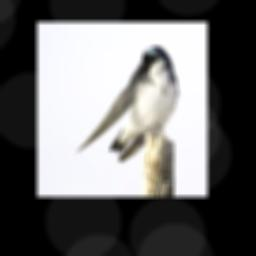Swallow: (76, 44, 181, 163)
